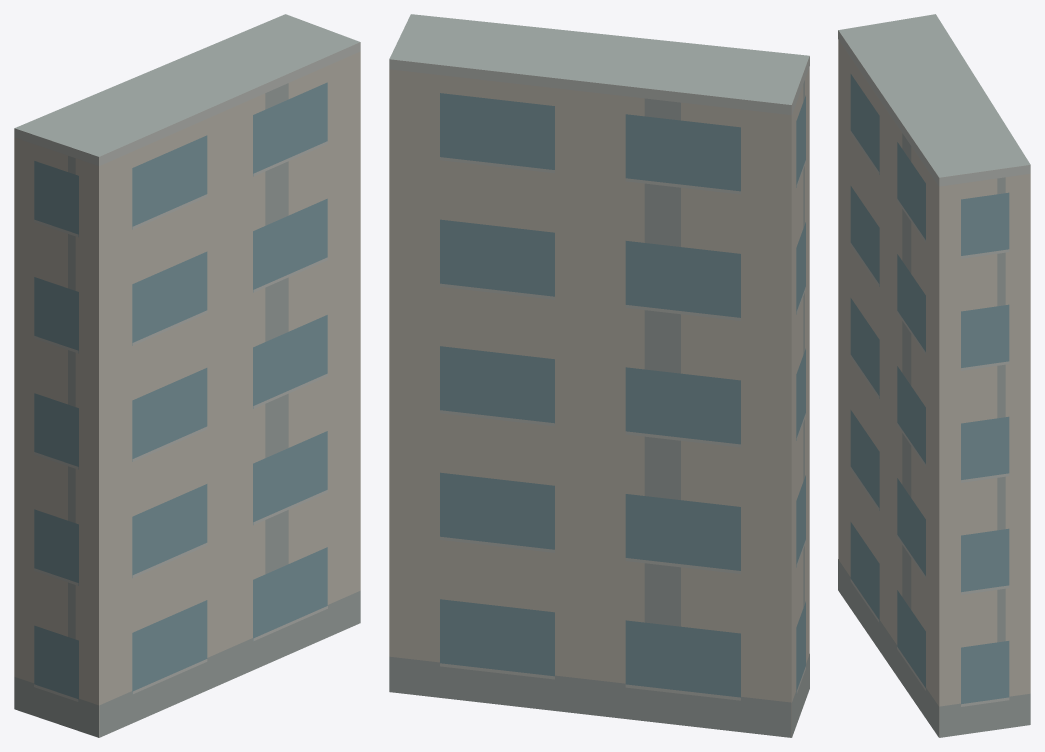
The model's file is survey-upis-32645757.glb.
3 renders of one model, left to right at view 1: azimuth 30°, elevation 25°; view 2: azimuth 150°, elevation 25°; view 3: azimuth 270°, elevation 25°, orthographic. The views are drawn at different scales.
Visible parts, largest first — view 1: survey-upis-32645757.tmp; view 2: survey-upis-32645757.tmp; view 3: survey-upis-32645757.tmp.
Boxes of the visible parts, left/top/right/bottom form: survey-upis-32645757.tmp: left=14, top=14, right=360, bottom=737; survey-upis-32645757.tmp: left=389, top=14, right=809, bottom=737; survey-upis-32645757.tmp: left=838, top=14, right=1030, bottom=737.
Bounding box in the file's own units: 9.57 × 15.25 × 4.76.
